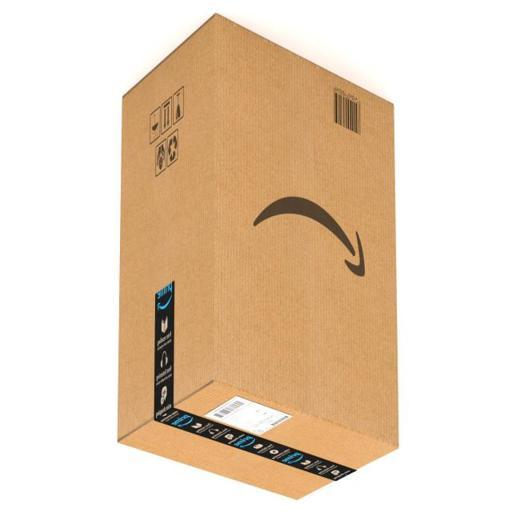Amazon: (116, 11, 402, 510)
